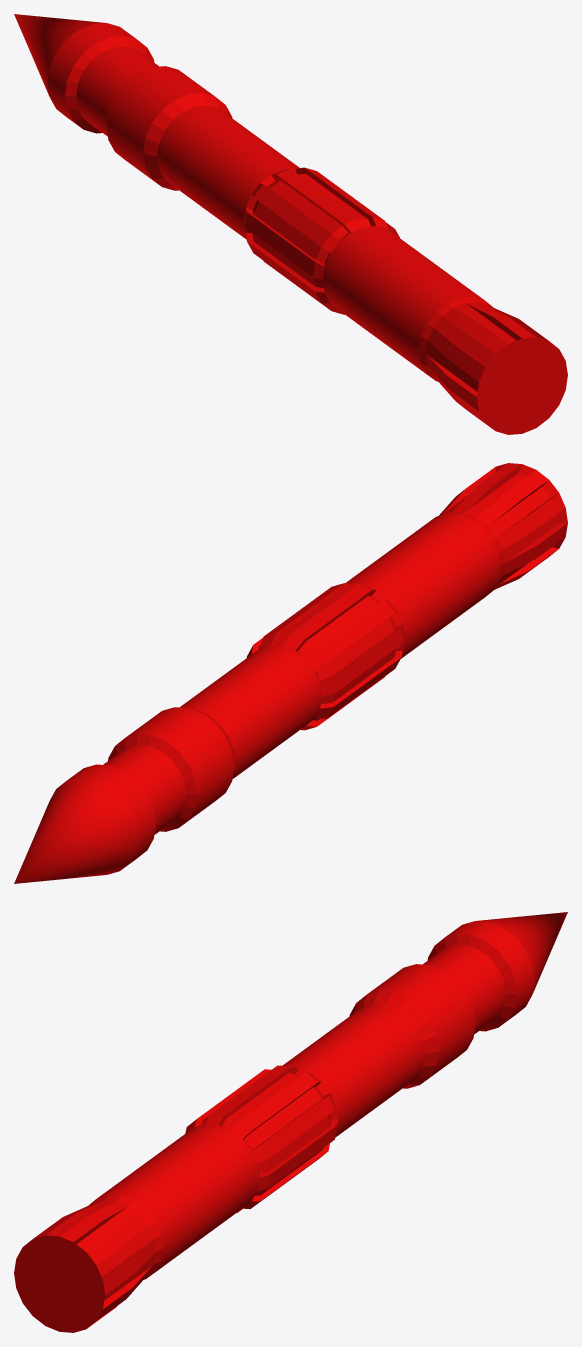
File: Bullet4.fbx
The picture shows the model from 3 angles, top to bottom: view 1: azimuth 30°, elevation 25°; view 2: azimuth 150°, elevation 25°; view 3: azimuth 330°, elevation 25°; orthographic projection.
Parts seen in each view (by area): view 1: pCylinder54; view 2: pCylinder54; view 3: pCylinder54.
Boxes of the visible parts, <box> form: pCylinder54: <box>14,14,567,434</box>; pCylinder54: <box>14,463,567,883</box>; pCylinder54: <box>14,912,567,1332</box>.
Size of the model in its own units: 0.0976 by 0.0976 by 0.9434.
